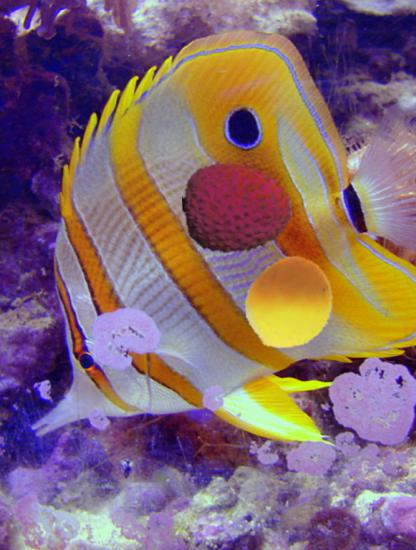Lychee: (182, 153, 292, 263)
Peach: (241, 255, 339, 353)
